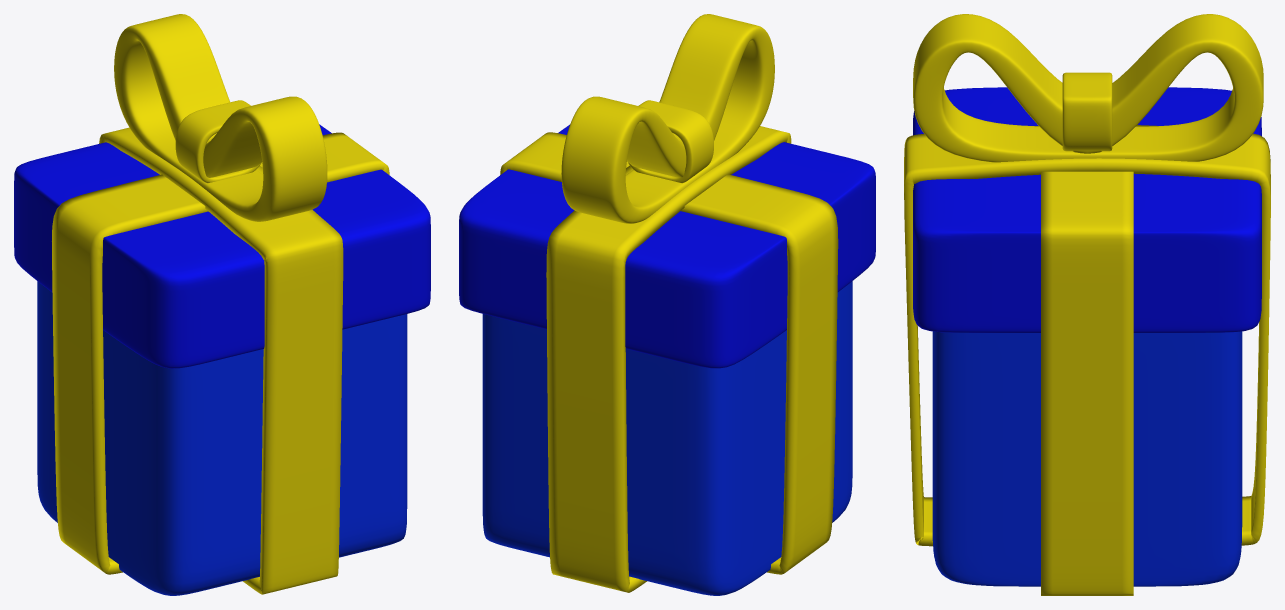
File: gift2.fbx
3 views of the same model, side by side, from view 1: azimuth 30°, elevation 25°; view 2: azimuth 150°, elevation 25°; view 3: azimuth 270°, elevation 25° (orthographic). The views are drawn at different scales.
Visible parts, largest first — view 1: Cube, Cube.001, Cube.002, Cube.003, Cube.004, Cube.005; view 2: Cube, Cube.001, Cube.002, Cube.003, Cube.004, Cube.005; view 3: Cube, Cube.001, Cube.003, Cube.004, Cube.002, Cube.005.
Boxes of the visible parts, bbox=[...] form: Cube: bbox=[37, 281, 407, 595]; Cube.001: bbox=[14, 124, 430, 368]; Cube.002: bbox=[99, 127, 343, 594]; Cube.003: bbox=[52, 132, 389, 574]; Cube.004: bbox=[114, 14, 327, 221]; Cube.005: bbox=[175, 100, 261, 183]; Cube: bbox=[482, 281, 852, 595]; Cube.001: bbox=[459, 124, 875, 368]; Cube.002: bbox=[546, 126, 791, 592]; Cube.003: bbox=[500, 132, 838, 574]; Cube.004: bbox=[561, 14, 774, 223]; Cube.005: bbox=[628, 100, 713, 183]; Cube: bbox=[932, 331, 1242, 586]; Cube.001: bbox=[913, 87, 1261, 332]; Cube.003: bbox=[1041, 171, 1133, 595]; Cube.004: bbox=[913, 14, 1263, 162]; Cube.002: bbox=[904, 125, 1270, 546]; Cube.005: bbox=[1062, 72, 1112, 151].
Size of the model in its own units: 237 by 356 by 237.
